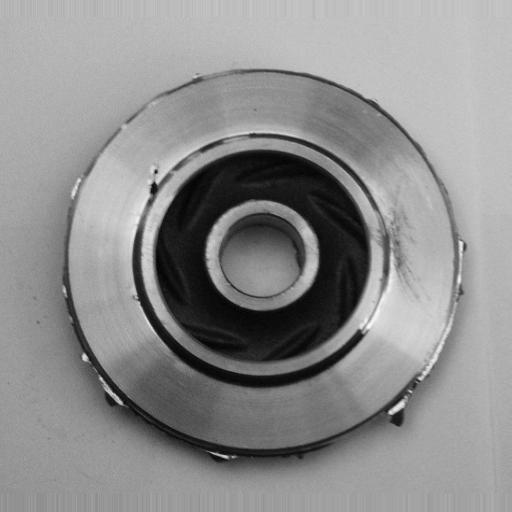casting_with_burr: (58, 65, 470, 465)
crack: (137, 160, 168, 213)
stain: (373, 184, 429, 315)
